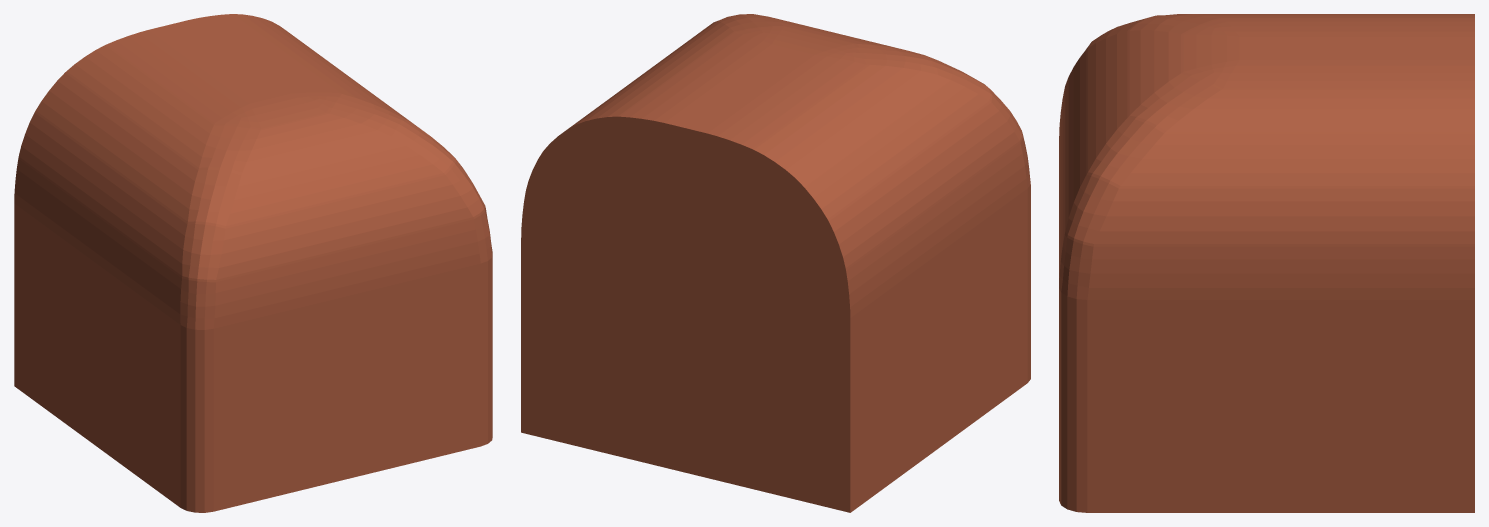
The picture shows the model from 3 angles, left to right: view 1: azimuth 30°, elevation 25°; view 2: azimuth 150°, elevation 25°; view 3: azimuth 270°, elevation 25°; orthographic projection. The views are drawn at different scales.
Visible parts, largest first — view 1: Cube.003; view 2: Cube.003; view 3: Cube.003.
Part boxes in pixels (x1,y1,x2,y2): Cube.003: [14, 14, 492, 512]; Cube.003: [521, 14, 1030, 512]; Cube.003: [1059, 14, 1474, 512].
Size of the model in its own units: 100 by 100 by 100.
